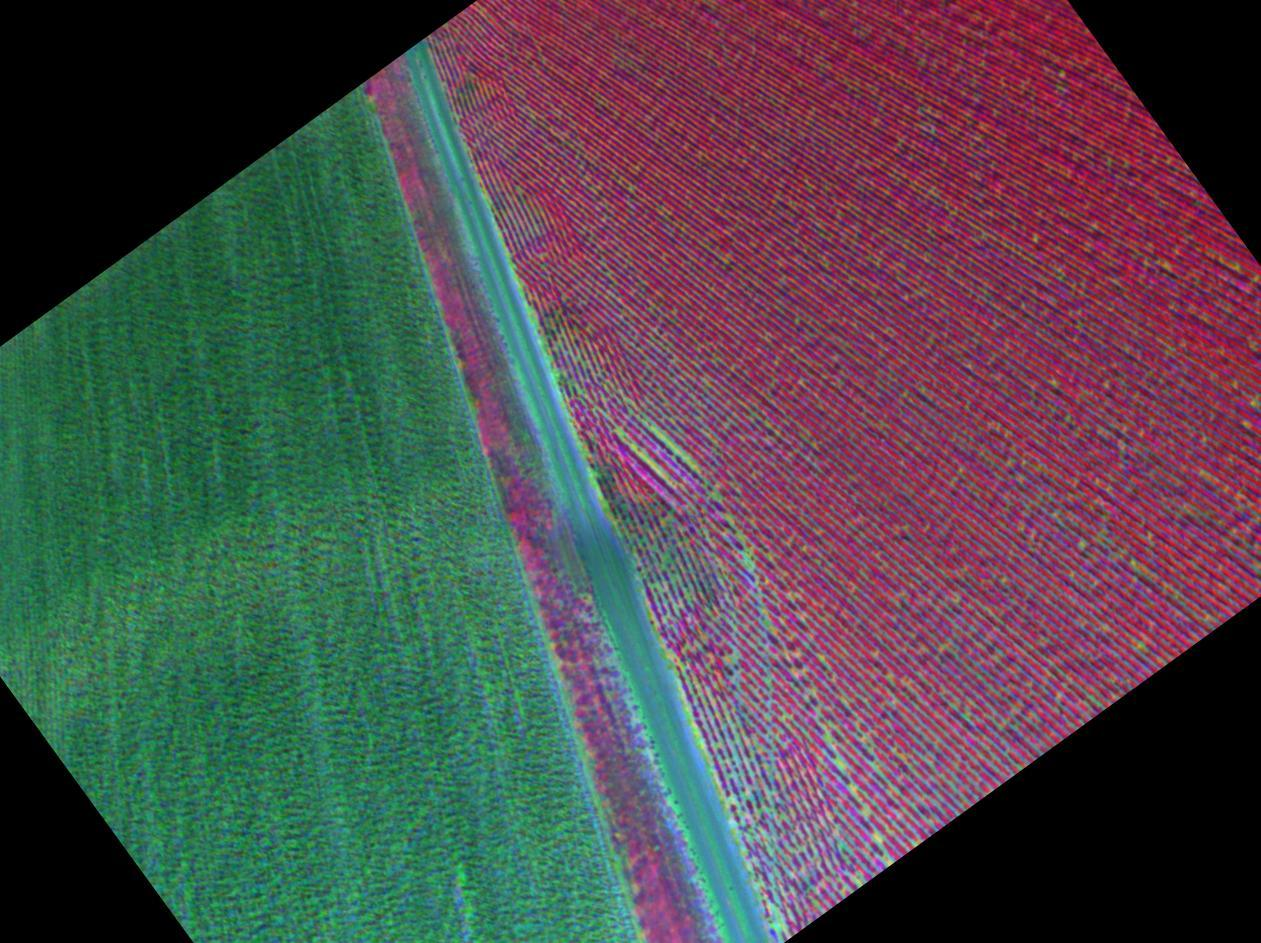dc: (620, 430, 624, 434), (742, 562, 746, 565), (767, 618, 770, 622), (654, 427, 657, 430), (604, 503, 607, 506), (732, 656, 735, 659)
